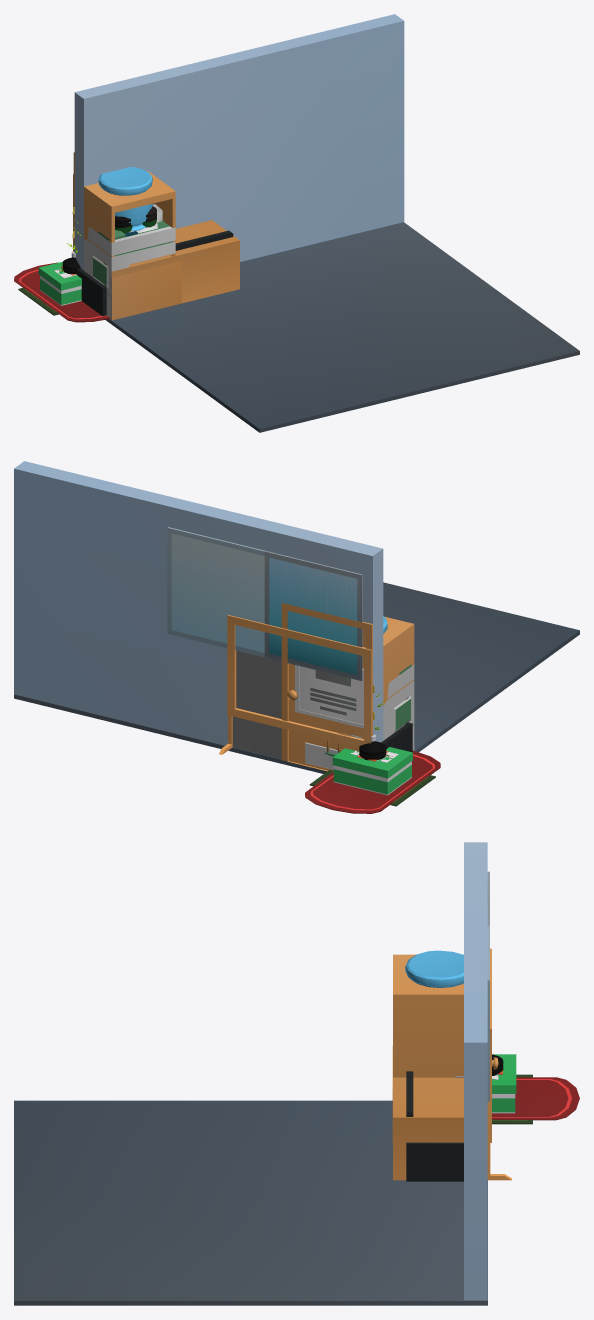
The model's file is JAMEGAM_Props.fbx.
3 renders of one model, top to bottom at view 1: azimuth 30°, elevation 25°; view 2: azimuth 150°, elevation 25°; view 3: azimuth 270°, elevation 25°, orthographic. The views are drawn at different scales.
Parts seen in each view (by area): view 1: Wall_01, Ground, DeskBase, Photocopier, InkPile, Cabinet, WaterDispenser, Carpet_02, PaperBox, Couch_02; view 2: Wall_01, Ground, Window_Long, Window, GraphPannel, CubicleWall, Door, Carpet_02, Painting_02, PaperBox, Photocopier, InkPile (+3 smaller); view 3: Ground, Wall_01, InkPile, DeskBase, Carpet_02, Couch_02, WaterDispenser, PaperBox, GraphPannel.
Part boxes in pixels (left/top/right/bottom): Wall_01: left=74, top=14, right=404, bottom=270; Ground: left=105, top=222, right=579, bottom=432; DeskBase: left=111, top=220, right=239, bottom=303; Photocopier: left=84, top=221, right=175, bottom=319; InkPile: left=84, top=171, right=175, bottom=256; Cabinet: left=111, top=261, right=181, bottom=320; WaterDispenser: left=98, top=167, right=152, bottom=231; Carpet_02: left=14, top=262, right=110, bottom=322; PaperBox: left=38, top=261, right=81, bottom=305; Couch_02: left=76, top=230, right=233, bottom=316; Wall_01: left=14, top=461, right=383, bottom=745; Ground: left=14, top=582, right=579, bottom=773; Window_Long: left=167, top=527, right=361, bottom=679; Window: left=264, top=551, right=362, bottom=680; GraphPannel: left=219, top=615, right=371, bottom=754; CubicleWall: left=232, top=650, right=281, bottom=759; Door: left=281, top=603, right=372, bottom=771; Carpet_02: left=305, top=750, right=440, bottom=813; Painting_02: left=299, top=666, right=363, bottom=724; PaperBox: left=332, top=747, right=412, bottom=795; Photocopier: left=305, top=664, right=414, bottom=769; InkPile: left=383, top=616, right=414, bottom=706; Ground: left=14, top=1100, right=487, bottom=1305; Wall_01: left=464, top=842, right=487, bottom=1300; InkPile: left=393, top=954, right=463, bottom=1077; DeskBase: left=393, top=1077, right=463, bottom=1180; Carpet_02: left=492, top=1077, right=579, bottom=1120; Couch_02: left=406, top=1071, right=463, bottom=1181; WaterDispenser: left=405, top=950, right=463, bottom=987; PaperBox: left=492, top=1054, right=516, bottom=1113; GraphPannel: left=487, top=948, right=511, bottom=1180.
Size of the model in its own units: 5.6 by 3.06 by 5.97.
Materials: 2 (1 with a texture image).
